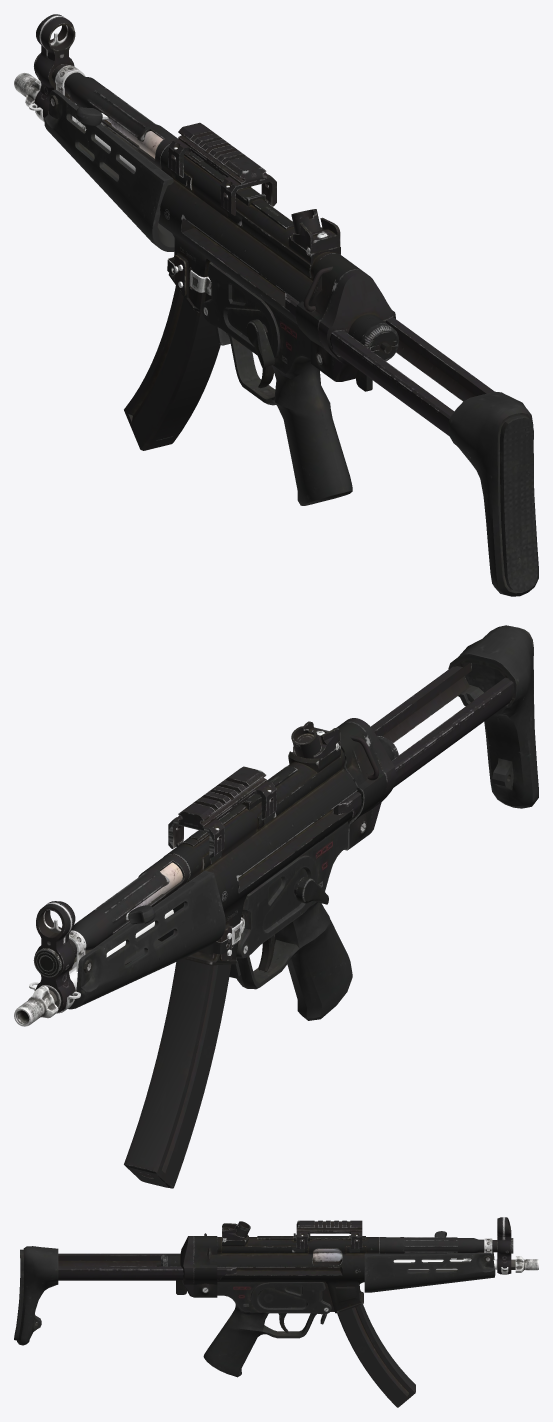
3 renders of one model, top to bottom at view 1: azimuth 30°, elevation 25°; view 2: azimuth 150°, elevation 25°; view 3: azimuth 270°, elevation 25°, orthographic. The views are drawn at different scales.
Visible parts, largest first — view 1: FRAME_LOD0.001, FRAME_LOD0; view 2: FRAME_LOD0.001, FRAME_LOD0; view 3: FRAME_LOD0.001, FRAME_LOD0.
Boxes of the visible parts, left/top/right/bottom form: FRAME_LOD0.001: left=14, top=14, right=538, bottom=596; FRAME_LOD0: left=168, top=122, right=276, bottom=215; FRAME_LOD0.001: left=14, top=625, right=538, bottom=1188; FRAME_LOD0: left=168, top=766, right=276, bottom=858; FRAME_LOD0.001: left=14, top=1217, right=538, bottom=1407; FRAME_LOD0: left=296, top=1220, right=362, bottom=1248.
Bounding box in the file's own units: 0.0614 × 0.2797 × 0.715.
Materials: 1 (1 with a texture image).
